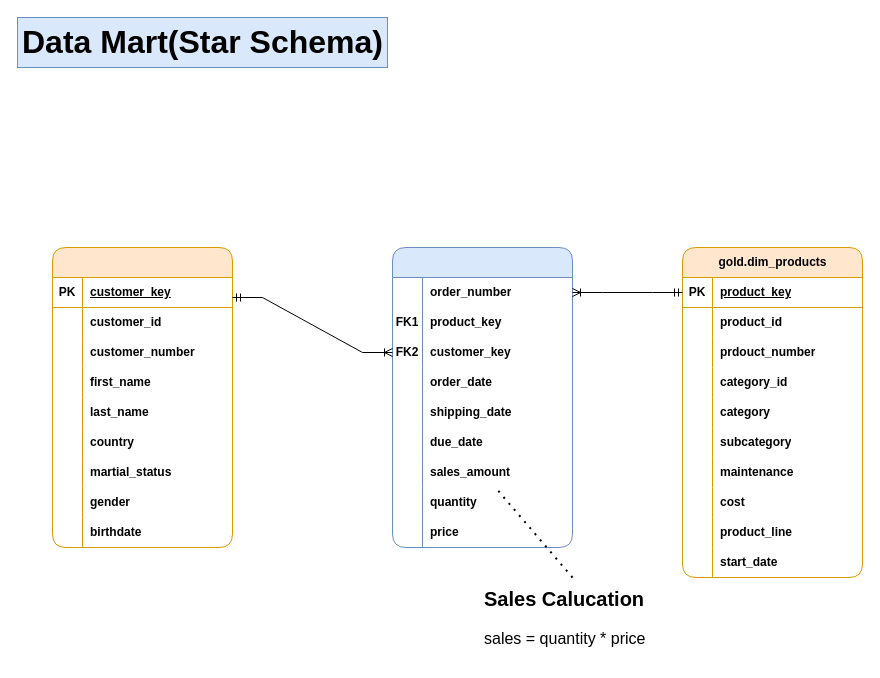
Some shapes in this 880 by 678 pixel diagram are drawn without their labels. Here are the shapes that lost their labels. From the top down, the box of each, then its label:
(52, 246, 232, 548): gold.dim_customers
(392, 246, 572, 548): gold.dim_sales
